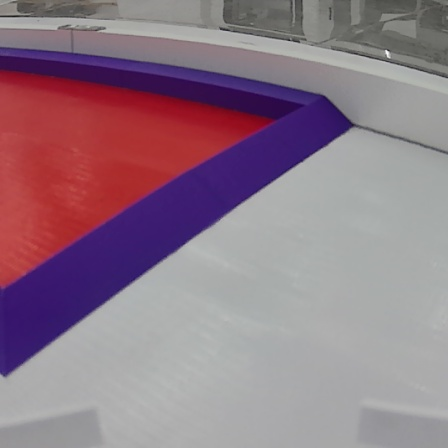red_aim: (5, 62, 351, 376)
